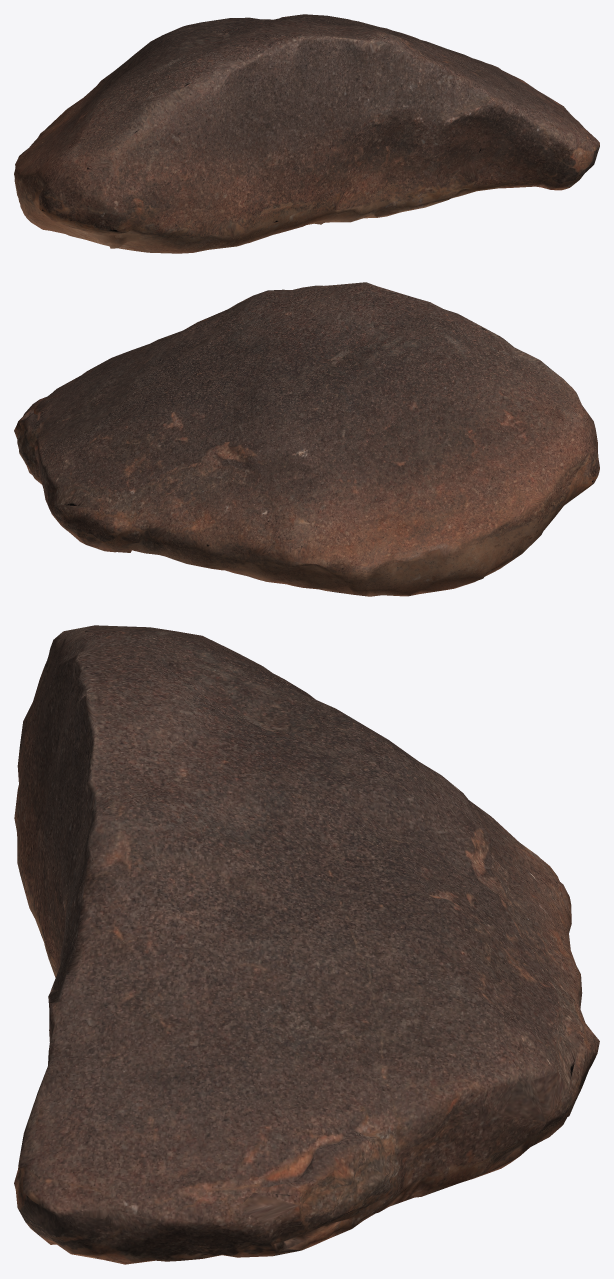
The model's file is SM_ydtqfdb_tier_2.gltf.
3 views of the same model, one above another, from view 1: azimuth 30°, elevation 25°; view 2: azimuth 150°, elevation 25°; view 3: azimuth 270°, elevation 25° (orthographic). The views are drawn at different scales.
Parts seen in each view (by area): view 1: ydtqfdb_LOD2_TIER2_000; view 2: ydtqfdb_LOD2_TIER2_000; view 3: ydtqfdb_LOD2_TIER2_000.
Boxes of the visible parts, x1,y1,x2,y2 form: ydtqfdb_LOD2_TIER2_000: (14, 14, 599, 253); ydtqfdb_LOD2_TIER2_000: (14, 282, 599, 596); ydtqfdb_LOD2_TIER2_000: (14, 625, 599, 1264).
Bounding box in the file's own units: 0.5371 × 0.1968 × 0.3018.
1 material, 1 textured.
